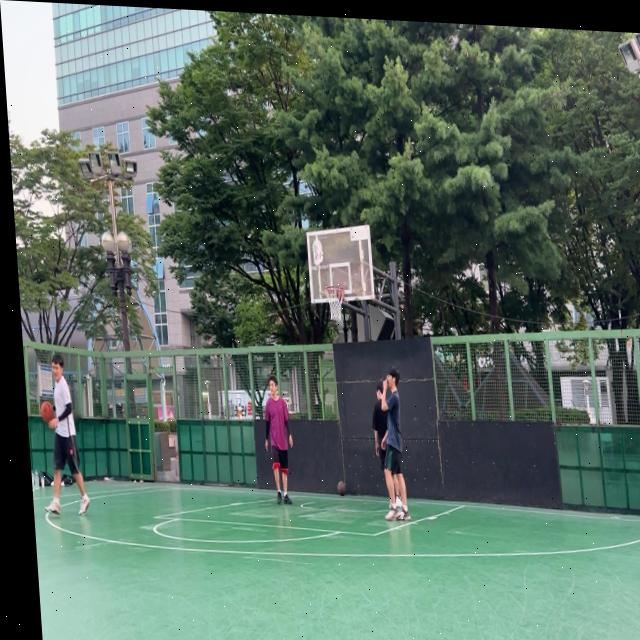basketball: (40, 400, 54, 423), (337, 480, 347, 497)
hoop: (323, 283, 347, 324)
